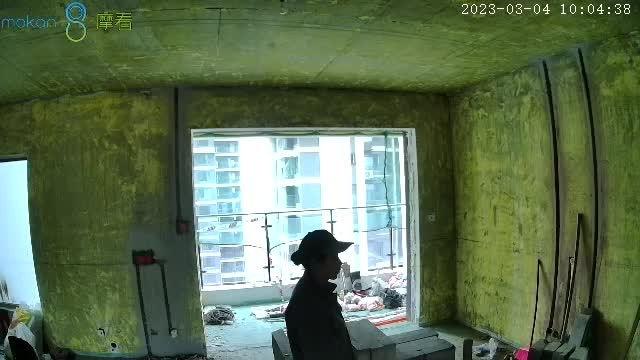people: (284, 230, 361, 360)
window: (190, 136, 409, 288)
